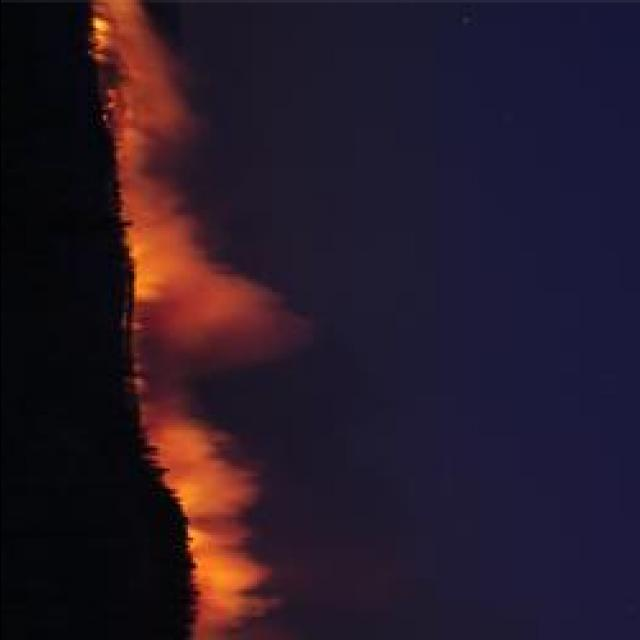smoke: (169, 267, 309, 354), (130, 32, 197, 144), (180, 422, 257, 512), (212, 517, 274, 619), (146, 185, 206, 272)
